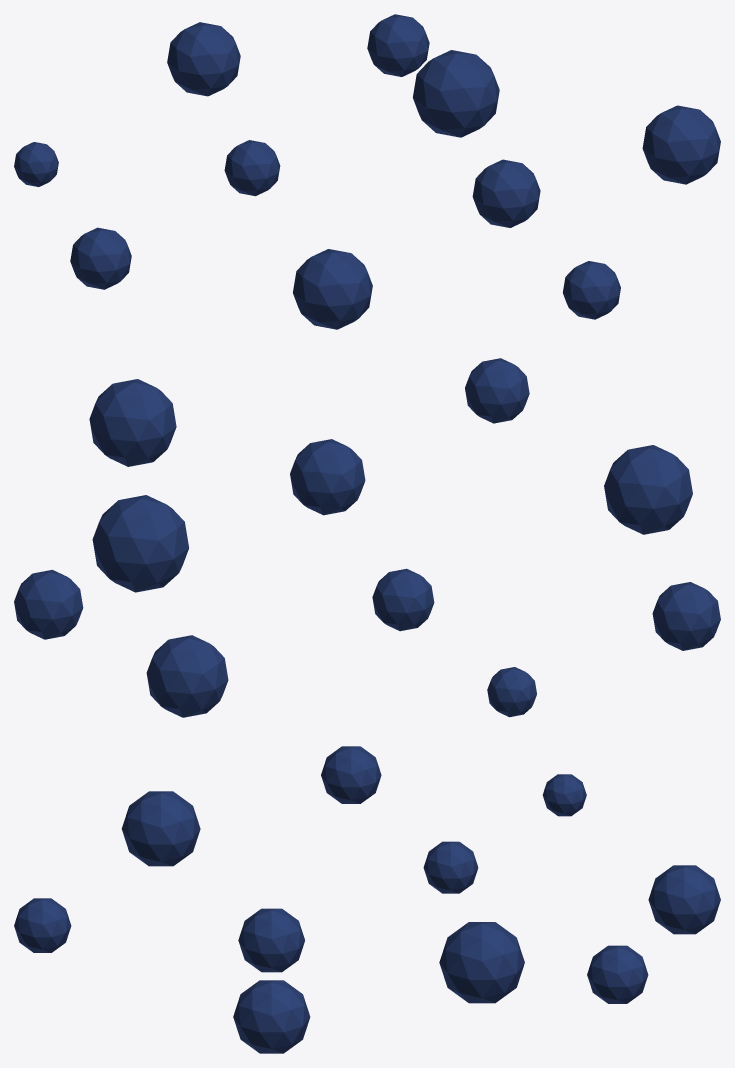
Rendered from blueberries_2_normal.fbx.
3 renders of one model, top to bottom at view 1: azimuth 30°, elevation 25°; view 2: azimuth 150°, elevation 25°; view 3: azimuth 270°, elevation 25°, orthographic. The views are drawn at different scales.
Visible parts, largest first — view 1: blueberry_2_normal; view 2: blueberry_2_normal; view 3: blueberry_2_normal.
Part boxes in pixels (x1=…): blueberry_2_normal: x1=14, y1=14, x2=720, y2=329; blueberry_2_normal: x1=14, y1=358, x2=720, y2=717; blueberry_2_normal: x1=14, y1=746, x2=720, y2=1053.
Bounding box in the file's own units: 9.94 × 1.29 × 10.56.
